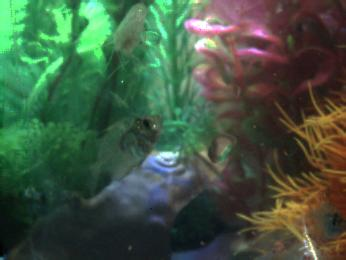X-ray fish: (76, 114, 166, 192), (303, 196, 346, 244)
siberian prawn: (112, 1, 149, 58)
